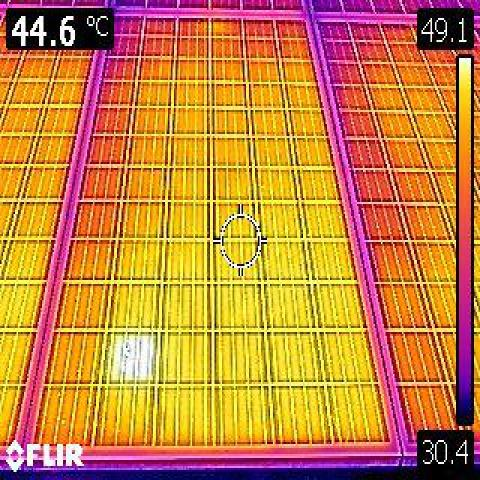fault: (114, 336, 156, 379)
